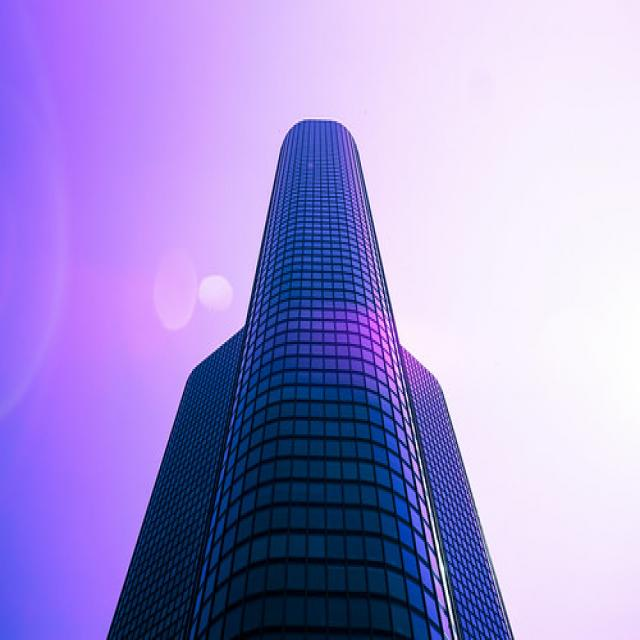Normal_building: (103, 105, 520, 637)
